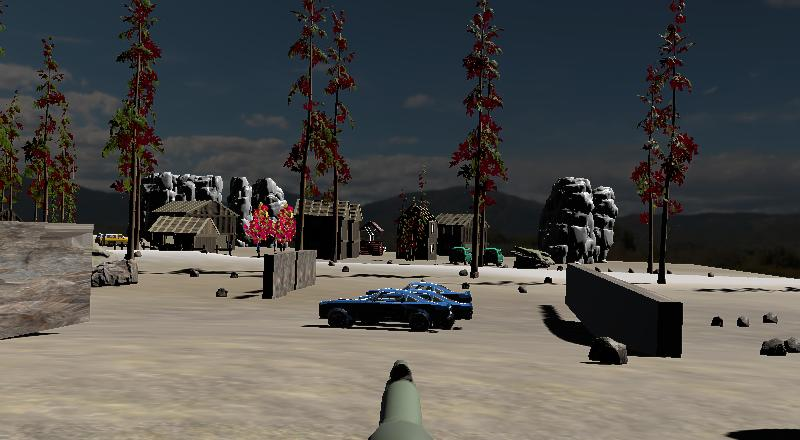car: (315, 285, 474, 334), (447, 243, 507, 267), (402, 280, 464, 302), (95, 231, 133, 250), (481, 246, 505, 267)
